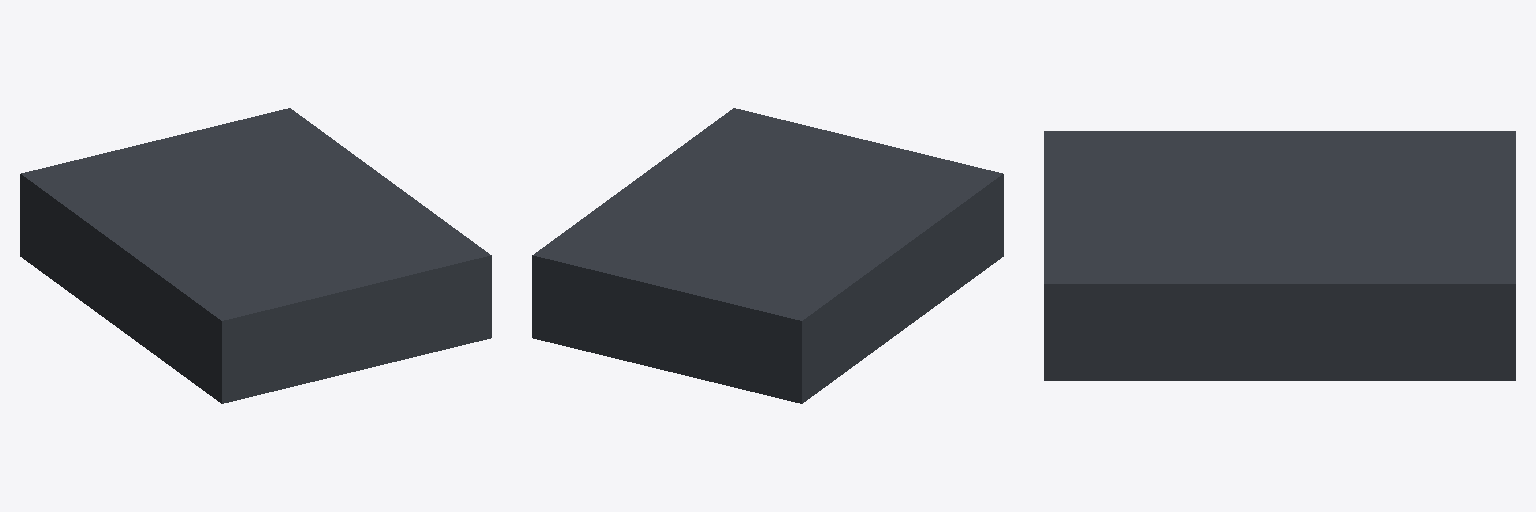
URDF robot description (support_microwave):
<?xml version='1.0' encoding='utf-8'?>
<robot name="support_microwave"><link name="support_microwave__base"><inertial><mass value="2" /><inertia ixx=".01" iyy=".01" izz=".01" ixy="0" ixz="0" iyz="0" /></inertial><visual><geometry><box size="0.34 0.44 0.1" /></geometry><material name="support_microwave__finish"><color rgba=".3 .32 .35 1" /></material></visual><collision><geometry><box size="0.34 0.44 0.1" /></geometry></collision></link></robot>

--- Render facts (derived) ---
3 views of the same robot in one strip: view 1: azimuth 30°, elevation 25°; view 2: azimuth 150°, elevation 25°; view 3: azimuth 270°, elevation 25° (orthographic).
Robot: support_microwave — 1 links, 0 joints (none); root link support_microwave__base; default pose: every joint at zero.
Visible links, largest first — view 1: support_microwave__base; view 2: support_microwave__base; view 3: support_microwave__base.
Link boxes in pixels (x1,y1,x2,y2): support_microwave__base: (20, 108, 491, 403); support_microwave__base: (532, 108, 1003, 403); support_microwave__base: (1044, 131, 1515, 380).
Size in the robot's own frame: 0.34 by 0.44 by 0.1 metres.
Geometry: primitives only (box / cylinder / sphere), no mesh files.
